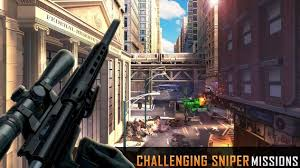gun: (1, 16, 119, 166)
